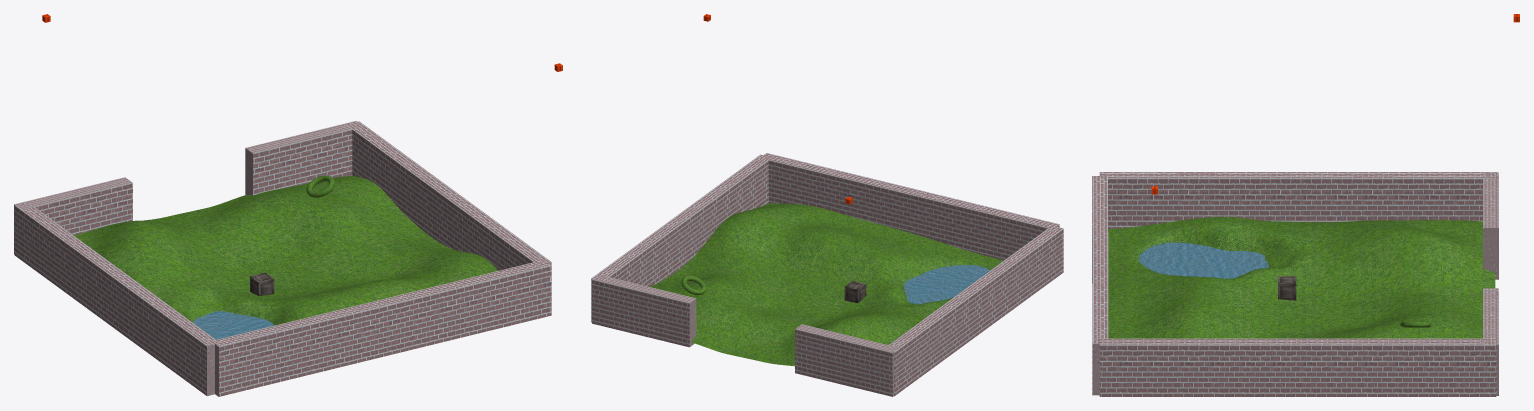
Rendered from map2.obj.
The picture shows the model from 3 angles, left to right: view 1: azimuth 30°, elevation 25°; view 2: azimuth 150°, elevation 25°; view 3: azimuth 270°, elevation 25°; orthographic projection. The views are drawn at different scales.
Parts seen in each view (by area): view 1: Plane, wall.001_Cube.004, wall.003_Cube.007, wall_Cube, wall.004_Cube.009, wall.002_Cube.005, water_Plane.001, crate_Cube_Cube.001; view 2: Plane, wall.001_Cube.004, wall.003_Cube.007, wall_Cube, wall.004_Cube.009, wall.002_Cube.005, water_Plane.001, crate_Cube_Cube.001; view 3: Plane, wall_Cube, wall.003_Cube.007, water_Plane.001, wall.001_Cube.004, wall.002_Cube.005, wall.004_Cube.009, crate_Cube_Cube.001.
Boxes of the visible parts, left/top/right/bottom form: Plane: left=74, top=175, right=498, bottom=325; wall.001_Cube.004: left=212, top=262, right=551, bottom=396; wall.003_Cube.007: left=14, top=202, right=219, bottom=395; wall_Cube: left=346, top=121, right=551, bottom=270; wall.004_Cube.009: left=245, top=121, right=363, bottom=195; wall.002_Cube.005: left=14, top=177, right=132, bottom=254; water_Plane.001: left=193, top=311, right=273, bottom=339; crate_Cube_Cube.001: left=250, top=272, right=274, bottom=295; Plane: left=649, top=203, right=1003, bottom=366; wall.001_Cube.004: left=762, top=153, right=1059, bottom=260; wall.003_Cube.007: left=886, top=226, right=1063, bottom=396; wall_Cube: left=591, top=154, right=771, bottom=322; wall.004_Cube.009: left=592, top=274, right=696, bottom=347; wall.002_Cube.005: left=795, top=324, right=896, bottom=396; water_Plane.001: left=904, top=265, right=989, bottom=304; crate_Cube_Cube.001: left=844, top=280, right=866, bottom=302; Plane: left=1108, top=217, right=1495, bottom=338; wall_Cube: left=1099, top=338, right=1496, bottom=396; wall.003_Cube.007: left=1099, top=172, right=1496, bottom=229; water_Plane.001: left=1138, top=242, right=1268, bottom=278; wall.001_Cube.004: left=1092, top=176, right=1108, bottom=395; wall.002_Cube.005: left=1483, top=172, right=1498, bottom=279; wall.004_Cube.009: left=1483, top=288, right=1498, bottom=395; crate_Cube_Cube.001: left=1278, top=276, right=1296, bottom=300.
Size of what is drawn, in the model's own units: 10.54 by 6.39 by 9.94.
11 materials, 11 textured.
